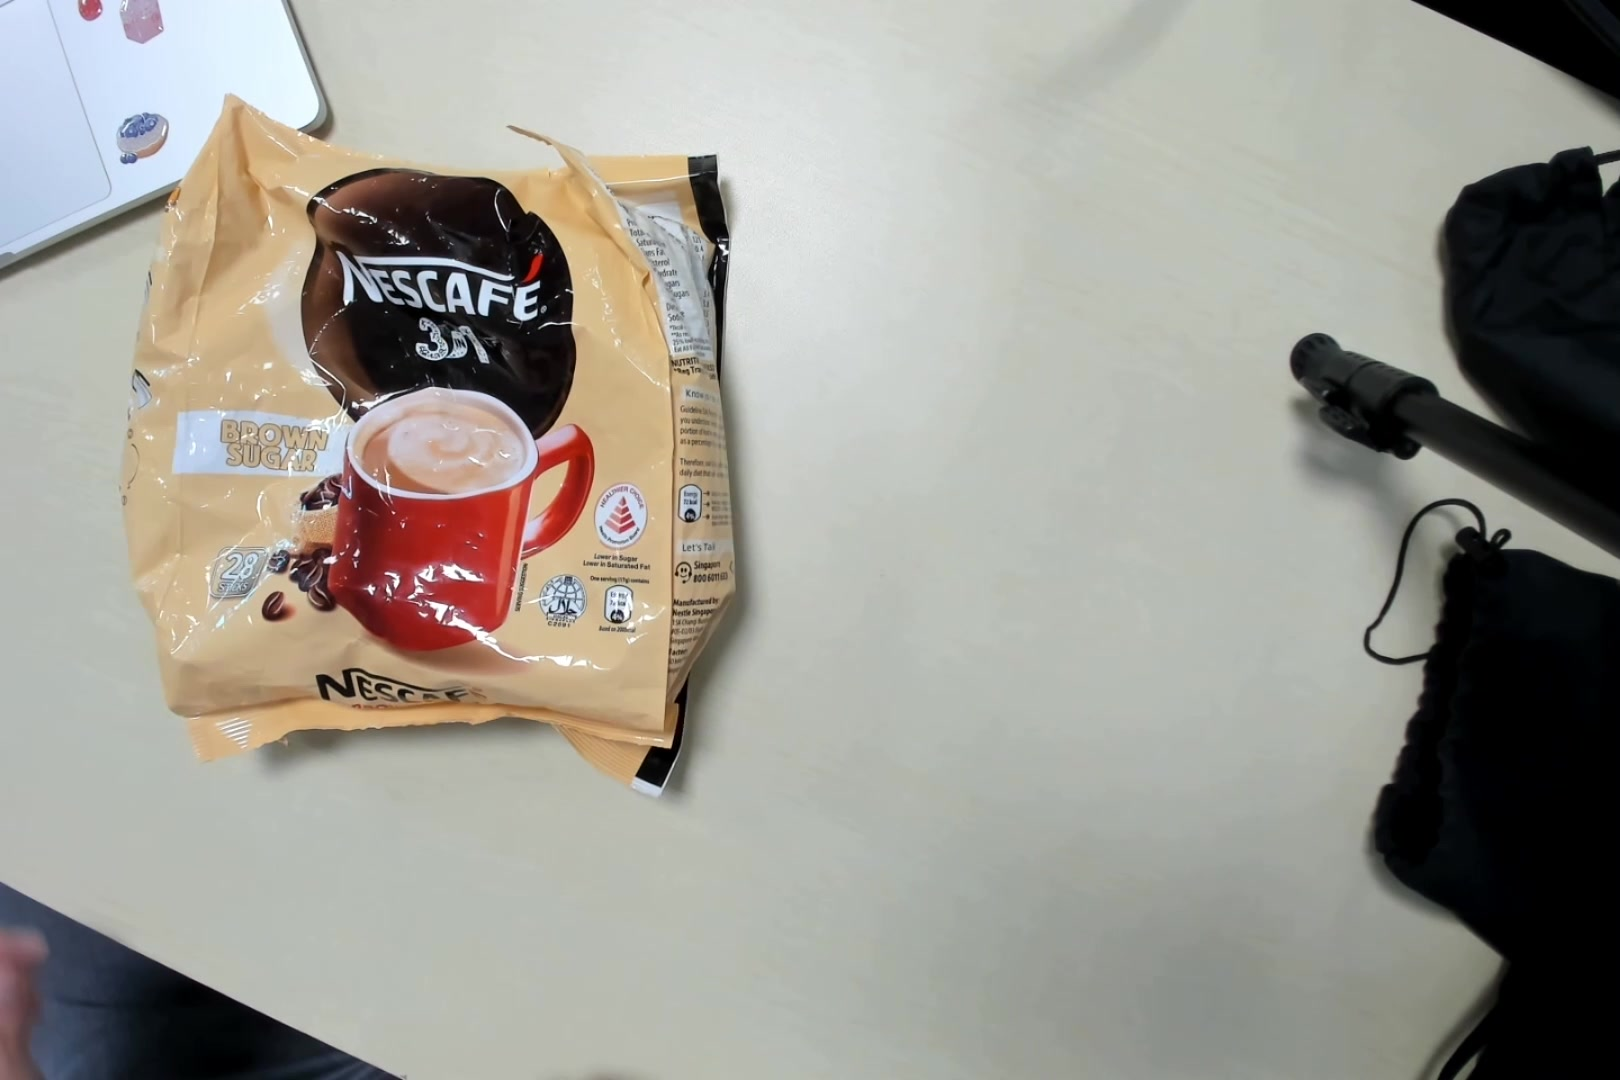Coffee(Powder)_500-599g_Halal_Healthy: (122, 102, 742, 779)
